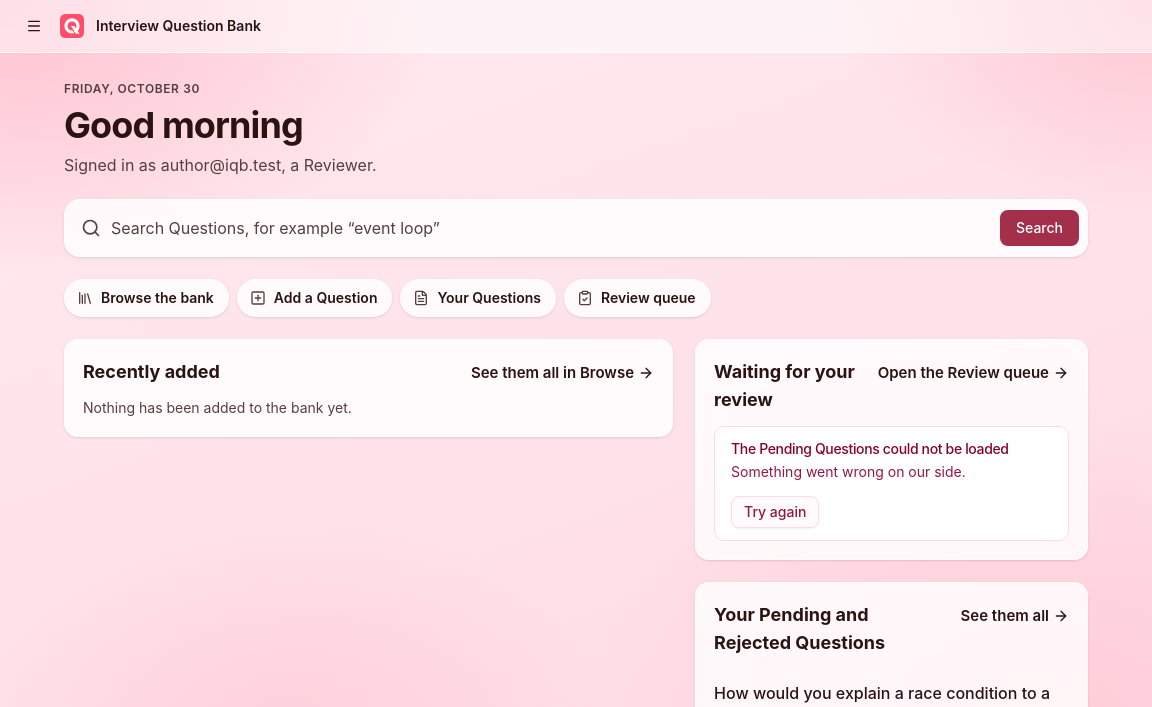
it: Waiting for your review on Home › says so when the list fails, and leaves the other panels working
Expected: the text "The Pending Questions could not be loaded" is shown, x1=731 y1=439 x2=1052 y2=459
Click the button "Try again" at (775,512), box x1=731 y1=496 x2=819 y2=528
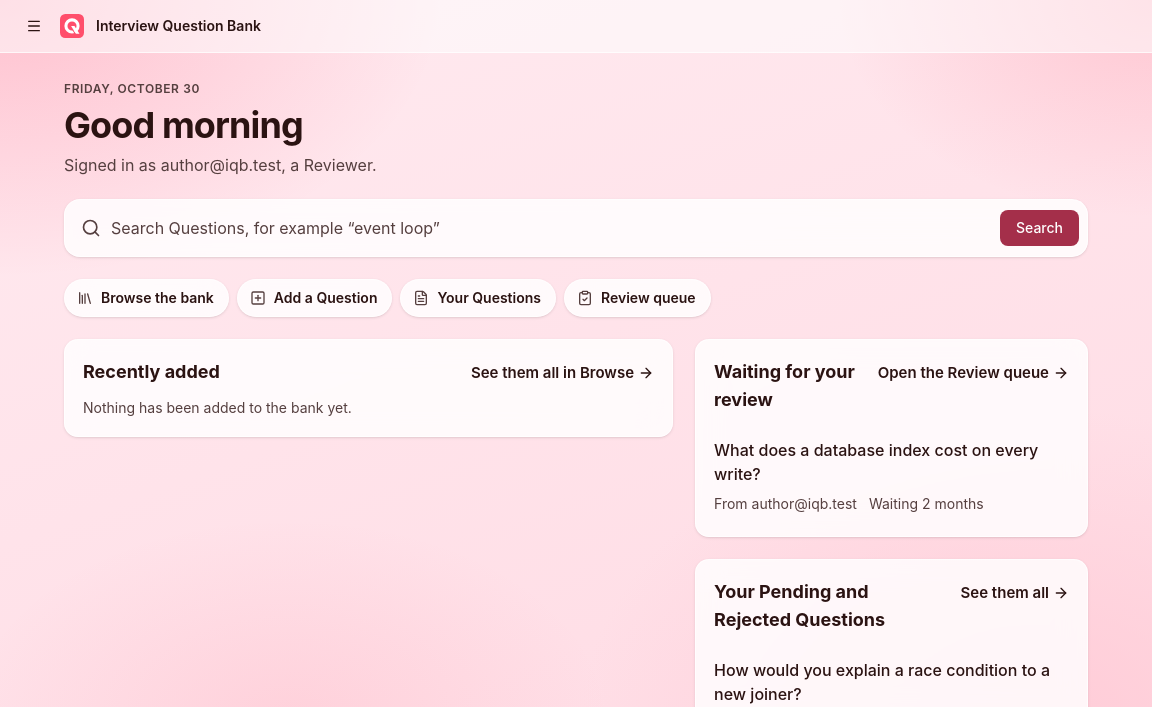
Expected: the link "What does a database index cost on every write?" is shown, x1=714 y1=438 x2=1069 y2=486
